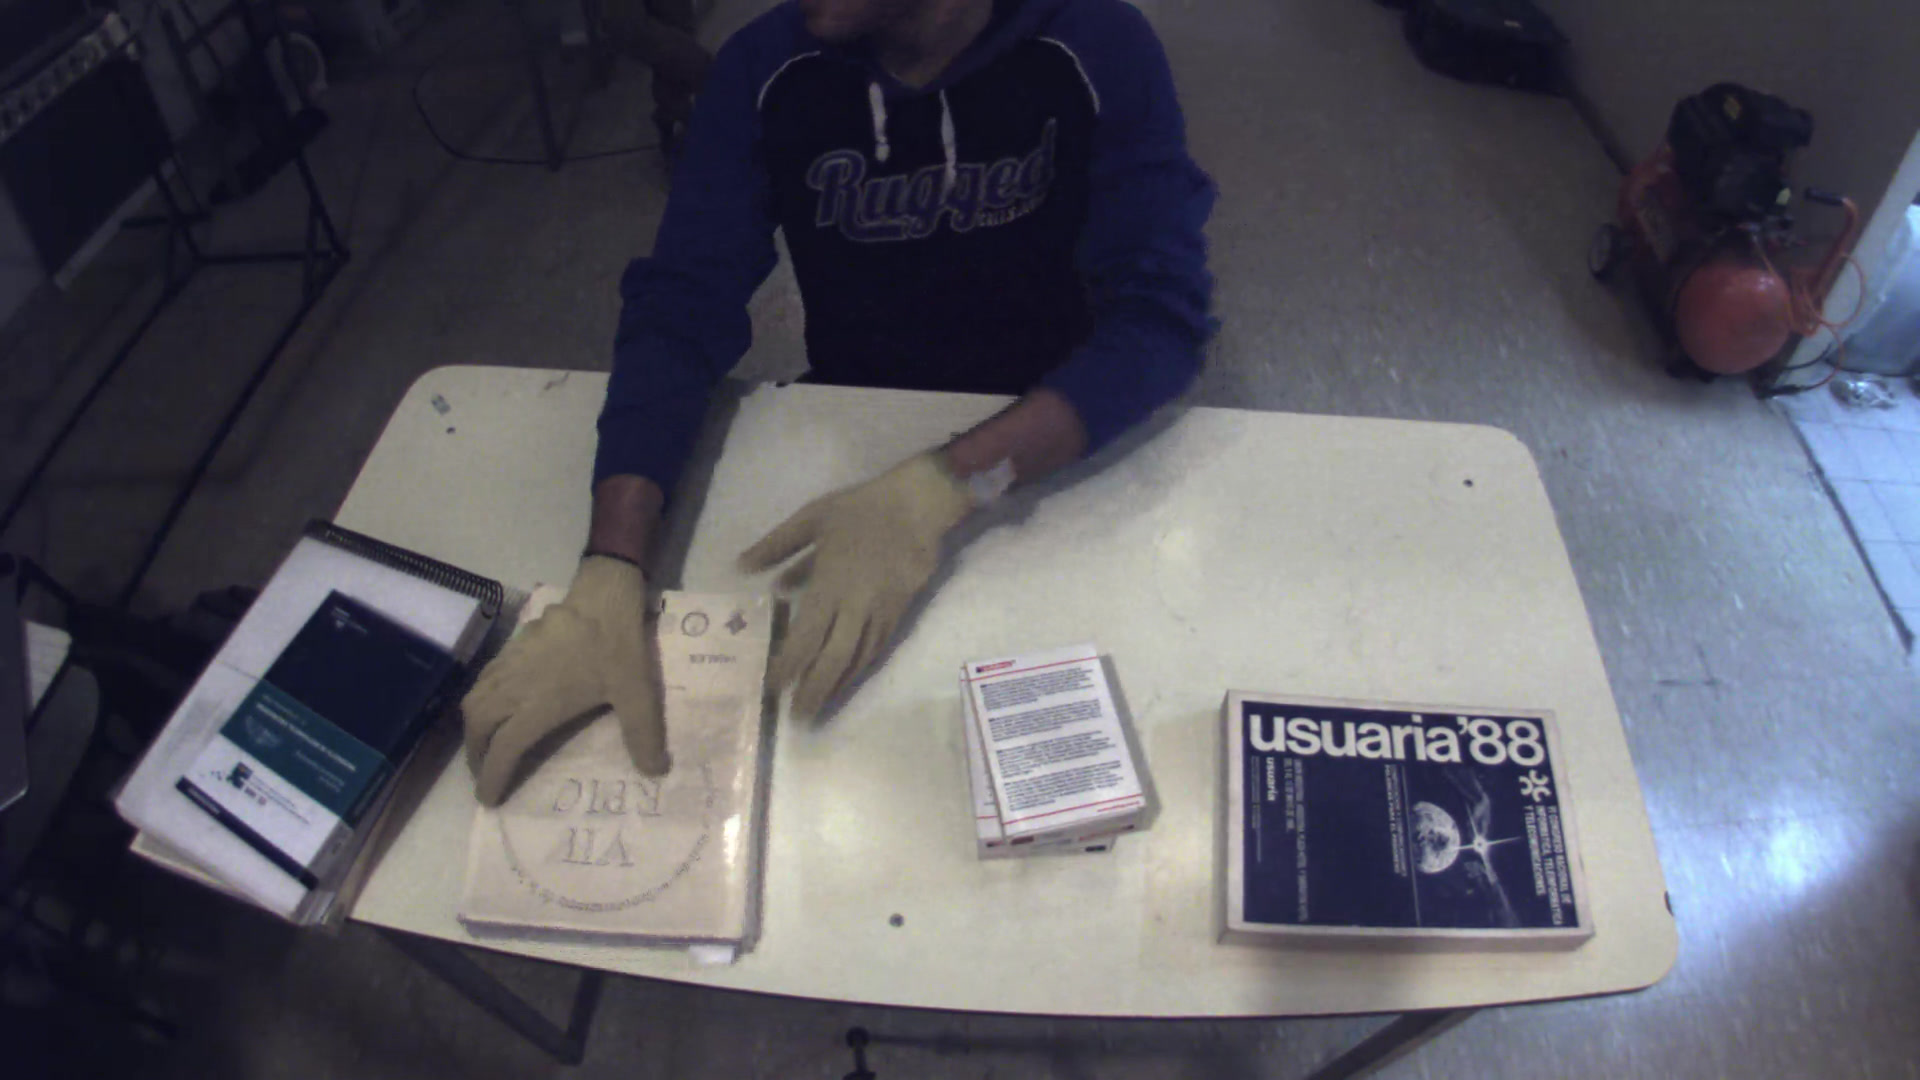hand: (723, 434, 989, 725), (440, 550, 673, 822)
